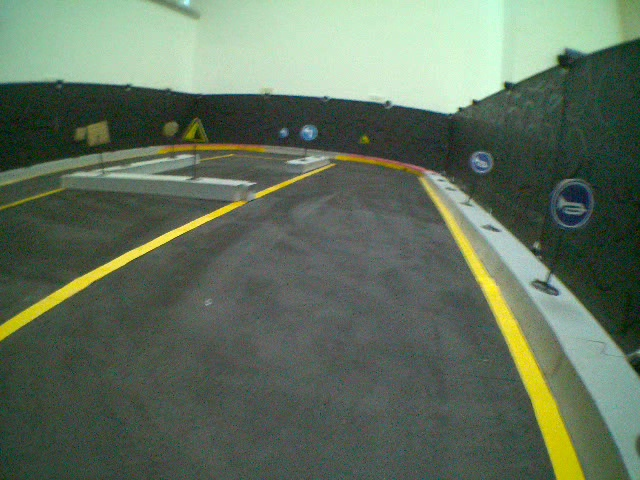fast: (180, 117, 210, 145)
horn: (548, 177, 596, 231), (469, 149, 494, 174)
turn: (301, 123, 319, 141)
